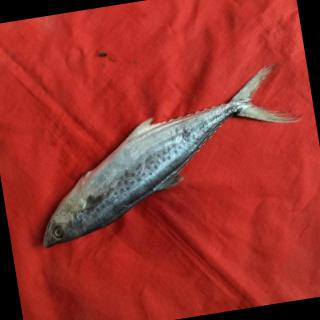Ikan: (20, 64, 298, 259)
